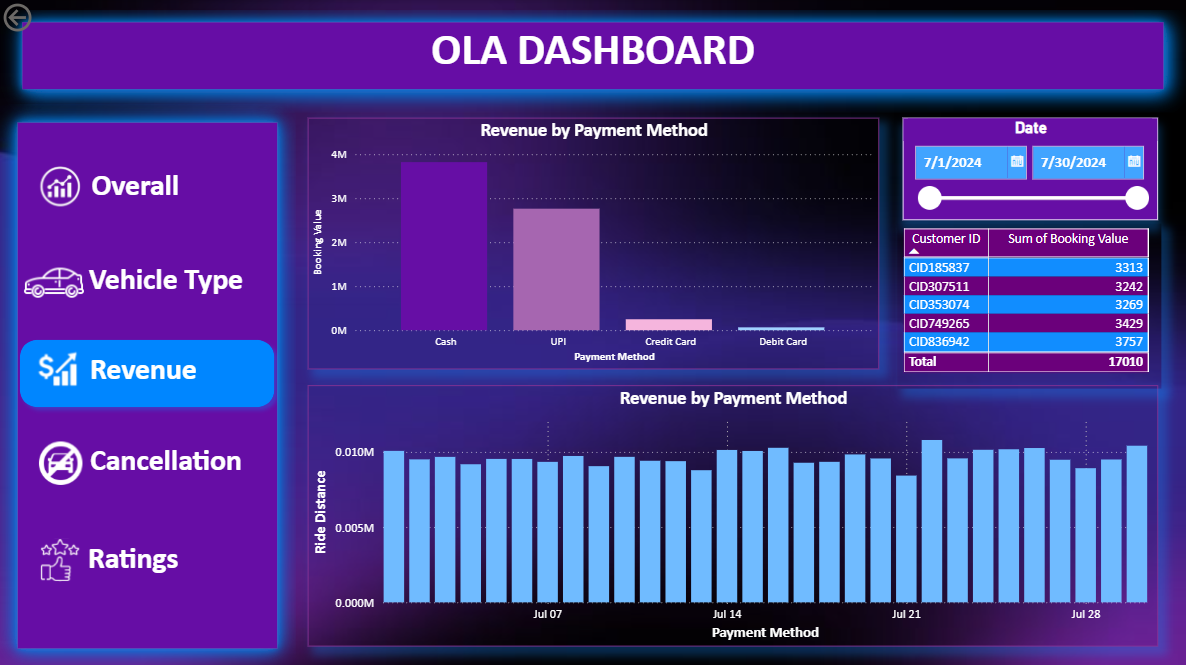

What the dashboard file says about the page in this screenshot:
{"tool":"powerbi","page":{"name":"Revenue","canvas":[1280,720],"ordinal":2},"visuals":[{"type":"shape","box":[0,0,1280.6,122.2],"z":0},{"type":"textbox","box":[0,20.8,1280.6,80.6],"z":1000},{"type":"shape","box":[0,112.9,320,607.1],"z":2000},{"type":"textbox","box":[48,577.7,192.1,70],"z":3000},{"type":"textbox","box":[72.9,472.9,214.3,81.4],"z":4000},{"type":"textbox","box":[72.9,277.1,214.3,84.3],"z":5000},{"type":"shape","box":[13.7,358.1,292.3,90.6],"z":6000},{"type":"textbox","box":[13.9,176.4,266.7,80.6],"z":7000},{"type":"actionButton","box":[48,577.7,197.6,65.9],"z":8000},{"type":"actionButton","box":[40.4,481.1,239.9,57.9],"z":9000},{"type":"actionButton","box":[40,277.1,238.6,65.7],"z":10000},{"type":"actionButton","box":[58.3,183.3,197.2,65.3],"z":11000},{"type":"textbox","box":[48.6,374.3,214.3,74.3],"z":12000},{"type":"actionButton","box":[27.4,164.7,82.3,78.2],"z":13000},{"type":"actionButton","box":[27.4,359.5,74.1,78.2],"z":14000},{"type":"actionButton","box":[23.3,269,74.1,72.7],"z":15000},{"type":"actionButton","box":[38.4,473.4,59,54.9],"z":16000},{"type":"actionButton","box":[38.4,577.7,67.2,53.5],"z":17000},{"type":"columnChart","title":"Revenue by Payment Method","fields":{"Y":["Sum(ola bookings.Booking_Value)"],"Category":["ola bookings.Payment_Method"]},"box":[332.9,128,615.9,270.9],"z":18000},{"type":"columnChart","title":"Revenue by Payment Method","fields":{"Y":["Sum(ola bookings.Ride_Distance)"],"Category":["ola bookings.Date"]},"box":[332.9,416.4,916.4,281.7],"z":19000},{"type":"slicer","title":"Date","fields":{"Values":["ola bookings.Date"]},"box":[974.4,128,274.9,110.5],"z":20000},{"type":"actionButton","box":[0,0,100,40],"z":21000},{"type":"tableEx","fields":{"Values":["ola bookings.Customer_ID","Sum(ola bookings.Booking_Value)"]},"box":[969,242.6,284.4,177.9],"z":22000}]}

Visuals, with their boxes in screenshot pixels (x1, y1, x2, y2), scaled from the page's 1280x720 canvas onto the 1186x665 screenshot:
shape: rect(0, 0, 1185, 113)
textbox: rect(0, 19, 1185, 94)
shape: rect(0, 104, 296, 664)
textbox: rect(44, 534, 222, 598)
textbox: rect(68, 437, 266, 512)
textbox: rect(68, 256, 266, 334)
shape: rect(13, 331, 284, 414)
textbox: rect(13, 163, 260, 237)
actionButton: rect(44, 534, 228, 594)
actionButton: rect(37, 444, 260, 498)
actionButton: rect(37, 256, 258, 317)
actionButton: rect(54, 169, 237, 230)
textbox: rect(45, 346, 244, 414)
actionButton: rect(25, 152, 102, 224)
actionButton: rect(25, 332, 94, 404)
actionButton: rect(22, 248, 90, 316)
actionButton: rect(36, 437, 90, 488)
actionButton: rect(36, 534, 98, 583)
"Revenue by Payment Method" columnChart: rect(308, 118, 879, 368)
"Revenue by Payment Method" columnChart: rect(308, 385, 1158, 645)
"Date" slicer: rect(903, 118, 1158, 220)
actionButton: rect(0, 0, 93, 37)
tableEx - ola bookings.Customer_ID x Sum(ola bookings.Booking_Value): rect(898, 224, 1161, 388)
